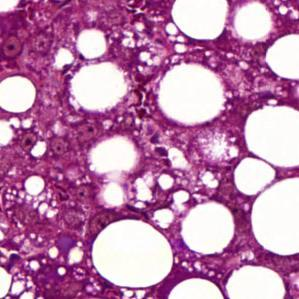steatosis: (89, 219, 175, 289), (180, 198, 239, 257)
